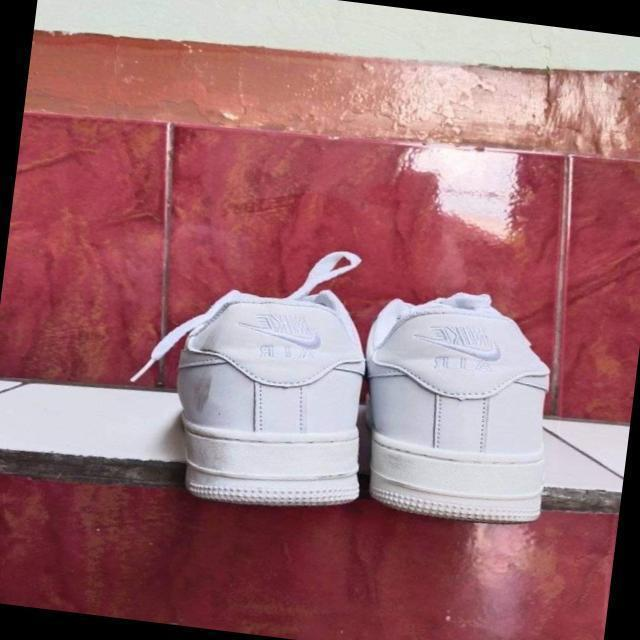nike fake air force: (141, 267, 384, 518), (344, 285, 574, 532)
